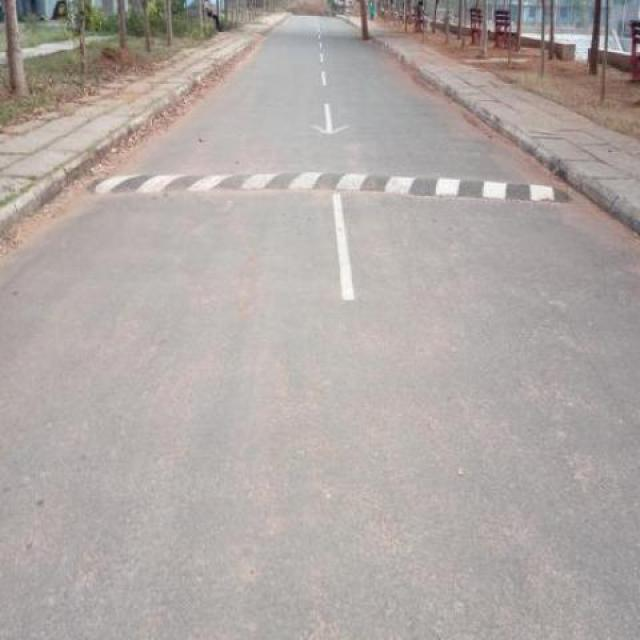Speed Bump: (90, 168, 572, 203)
